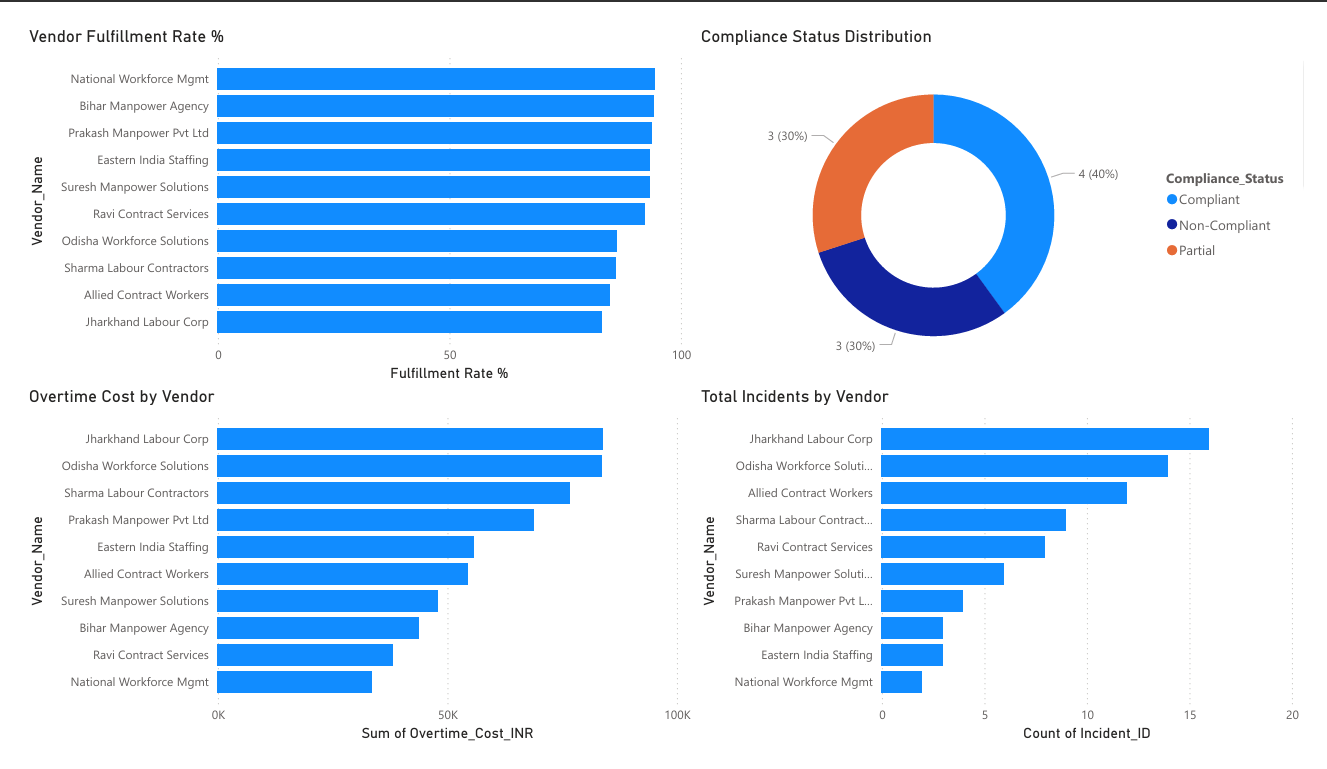

What the dashboard file says about the page in this screenshot:
{"tool":"powerbi","page":{"name":"Vendor Performance","canvas":[1280,720],"ordinal":1},"visuals":[{"type":"clusteredBarChart","title":"Vendor Fulfillment Rate %","fields":{"Y":["contractor_workforce_risk attendance_log.Fulfillment Rate %"],"Category":["contractor_workforce_risk vendor_master.Vendor_Name"]},"box":[0,0,672,360],"z":0},{"type":"clusteredBarChart","title":"Overtime Cost by Vendor","fields":{"Category":["contractor_workforce_risk vendor_master.Vendor_Name"],"Y":["Sum(contractor_workforce_risk cost_log.Overtime_Cost_INR)"]},"box":[0,360,672,360],"z":1000},{"type":"donutChart","title":"Compliance Status Distribution","fields":{"Y":["CountNonNull(contractor_workforce_risk vendor_master.Vendor_Name)"],"Category":["contractor_workforce_risk vendor_master.Compliance_Status"]},"box":[672,0,608,360],"z":2000},{"type":"clusteredBarChart","title":"Total Incidents by Vendor","fields":{"Category":["contractor_workforce_risk vendor_master.Vendor_Name"],"Y":["CountNonNull(contractor_workforce_risk incident_log.Incident_ID)"]},"box":[672,360,608,360],"z":3000}]}

Visuals, with their boxes in screenshot pixels (x1, y1, x2, y2), scaled from the page's 1280x720 canvas onto the 1327x769 screenshot:
"Vendor Fulfillment Rate %" clusteredBarChart: [x1=0, y1=0, x2=697, y2=384]
"Overtime Cost by Vendor" clusteredBarChart: [x1=0, y1=384, x2=697, y2=768]
"Compliance Status Distribution" donutChart: [x1=697, y1=0, x2=1326, y2=384]
"Total Incidents by Vendor" clusteredBarChart: [x1=697, y1=384, x2=1326, y2=768]
